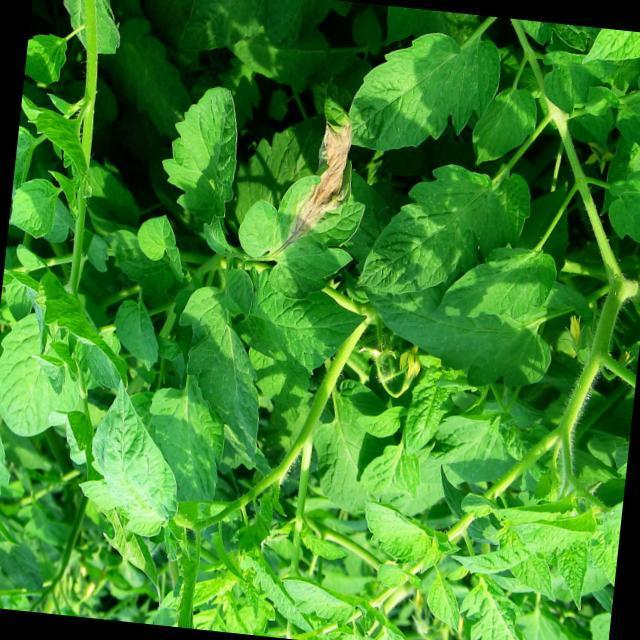Healthy Leaf: (363, 144, 536, 310), (353, 10, 498, 154), (160, 285, 272, 467), (147, 77, 250, 228), (435, 232, 562, 336), (242, 280, 368, 364), (466, 84, 541, 172), (398, 361, 461, 462)
